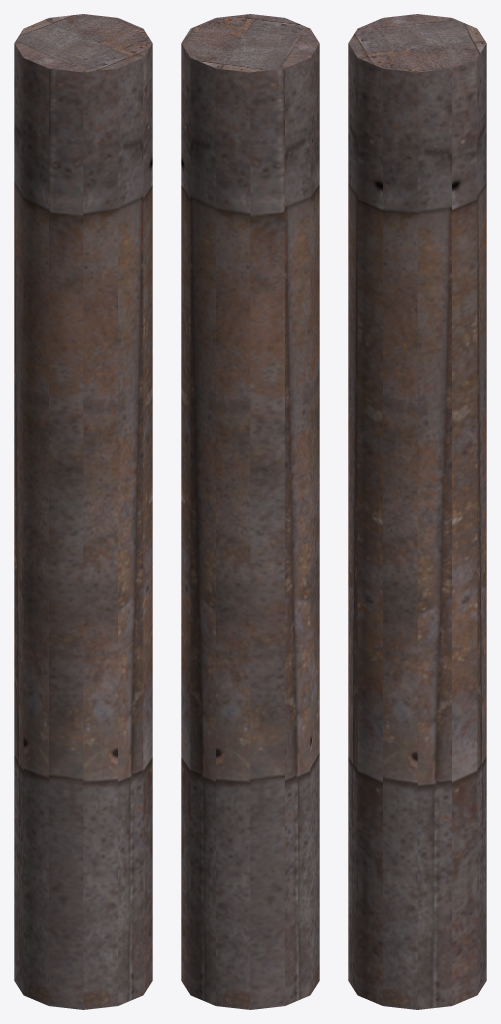
Rendered from SM_LDFest_24_02.fbx.
3 renders of one model, left to right at view 1: azimuth 30°, elevation 25°; view 2: azimuth 150°, elevation 25°; view 3: azimuth 270°, elevation 25°, orthographic.
Visible parts, largest first — view 1: SM_LDFest_24_02; view 2: SM_LDFest_24_02; view 3: SM_LDFest_24_02.
Part boxes in pixels (bbox=[...]): SM_LDFest_24_02: bbox=[14, 14, 152, 1009]; SM_LDFest_24_02: bbox=[181, 14, 319, 1009]; SM_LDFest_24_02: bbox=[348, 14, 486, 1009].
Size of the model in its own units: 127 by 950 by 127.
